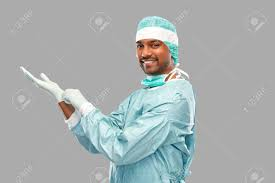Indian_Male: (131, 30, 172, 83)
